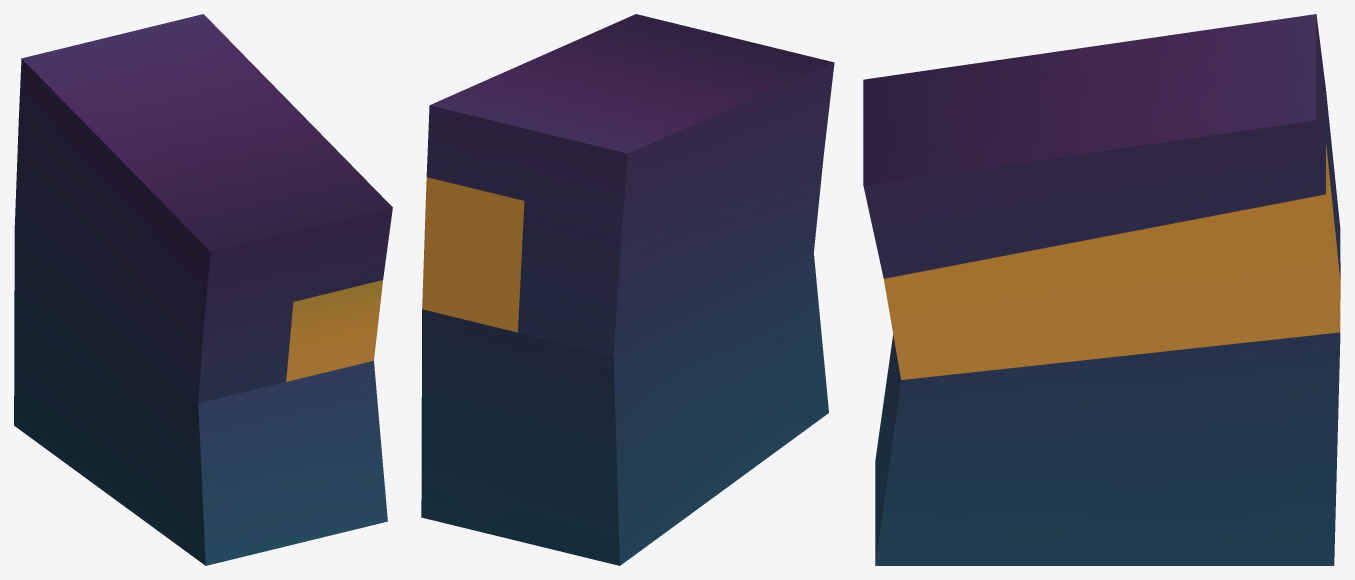
Rendered from Store_Box01.fbx.
3 views of the same model, side by side, from view 1: azimuth 30°, elevation 25°; view 2: azimuth 150°, elevation 25°; view 3: azimuth 270°, elevation 25° (orthographic). The views are drawn at different scales.
Parts seen in each view (by area): view 1: Food Cube; view 2: Food Cube; view 3: Food Cube.
Boxes of the visible parts, left/top/right/bottom form: Food Cube: left=14, top=14, right=392, bottom=565; Food Cube: left=421, top=14, right=834, bottom=565; Food Cube: left=863, top=14, right=1340, bottom=565.
Bounding box in the file's own units: 15.18 × 29.69 × 28.79.
